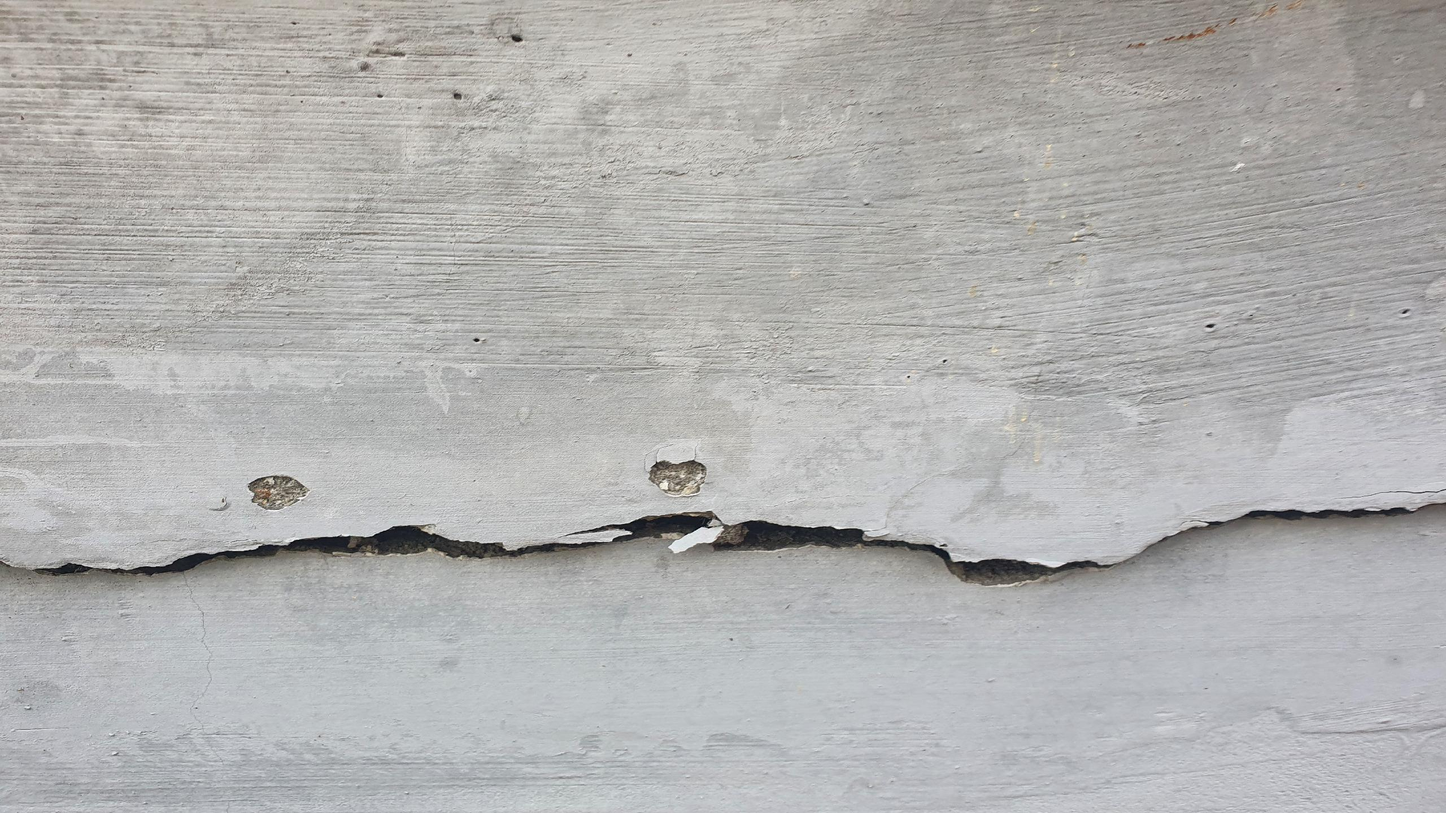crack: (4, 504, 1445, 591)
